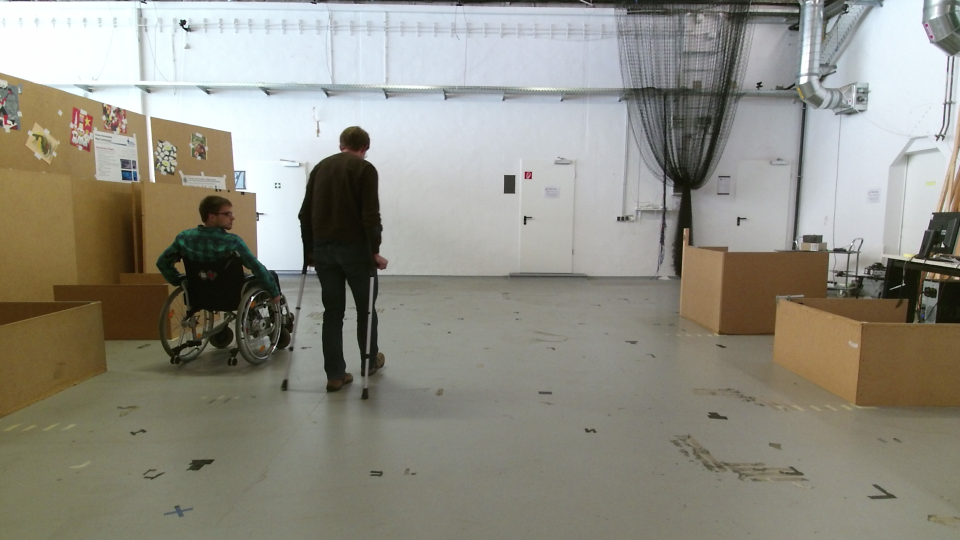crutches: (266, 101, 392, 413)
wheelchair: (150, 191, 293, 370)
